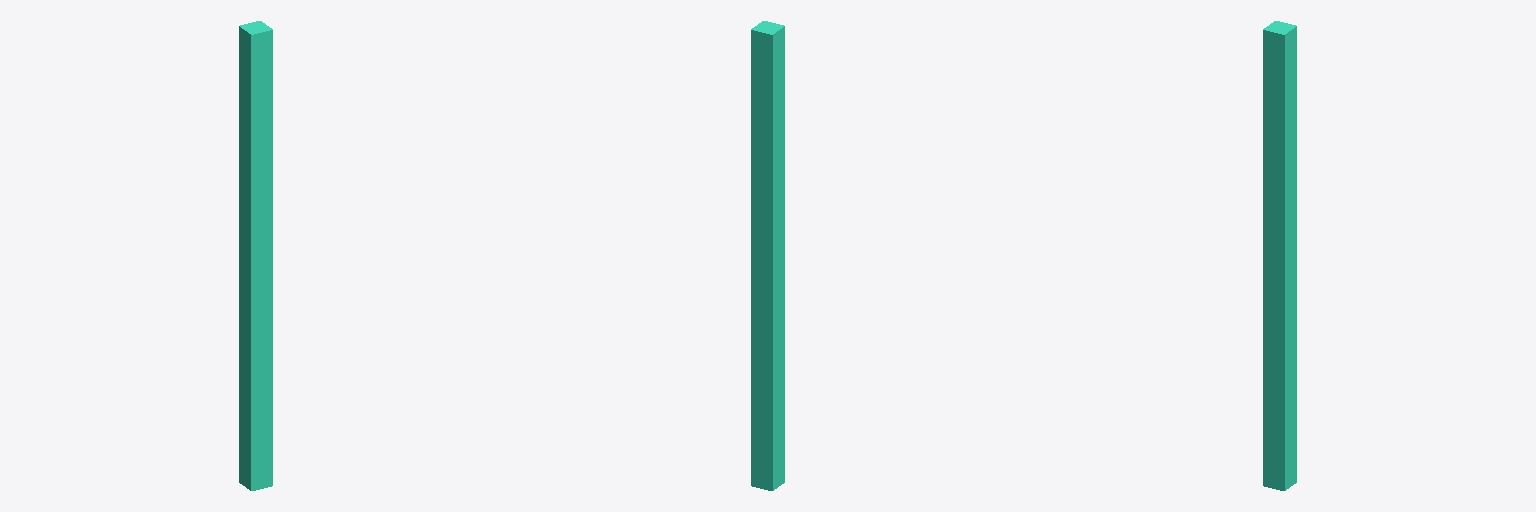
URDF robot description (box):
<?xml version='1.0' encoding='UTF-8'?>
<robot name="box">
  <link name="base_link">
    <inertial>
      <origin xyz="0.0 0.0 0.0" rpy="0.0 -0.0 0.0"/>
      <mass value="1.0"/>
      <inertia ixx="1.0" ixy="0.0" ixz="0.0" iyy="1.0" iyz="0.0" izz="1.0"/>
    </inertial>
    <visual name="base_link_visual">
      <geometry>
        <box size="0.2 0.2 4.0"/>
      </geometry>
      <origin xyz="0 0 0" rpy="0 0 0"/>
      <material name="object_color">
        <color rgba="0.3 0.95 0.8 1"/>
      </material>
    </visual>
    <collision name="base_link_collision">
      <geometry>
        <box size="0.2 0.2 4.0"/>
      </geometry>
      <origin xyz="0 0 0" rpy="0 0 0"/>
    </collision>
  </link>
</robot> 

--- What the picture shows (computed from the rendered views, not written in the file) ---
The picture shows the robot from 3 angles, left to right: view 1: azimuth 30°, elevation 25°; view 2: azimuth 150°, elevation 25°; view 3: azimuth 330°, elevation 25°; orthographic projection.
Robot: box — 1 links, 0 joints (none); root link base_link; default pose: every joint at zero.
Links seen in each view (by area): view 1: base_link; view 2: base_link; view 3: base_link.
Boxes of the visible links, <box> form: base_link: <box>239,21,272,490</box>; base_link: <box>751,21,784,490</box>; base_link: <box>1263,21,1296,490</box>.
Size in the robot's own frame: 0.2 by 0.2 by 4 metres.
Geometry: primitives only (box / cylinder / sphere), no mesh files.
